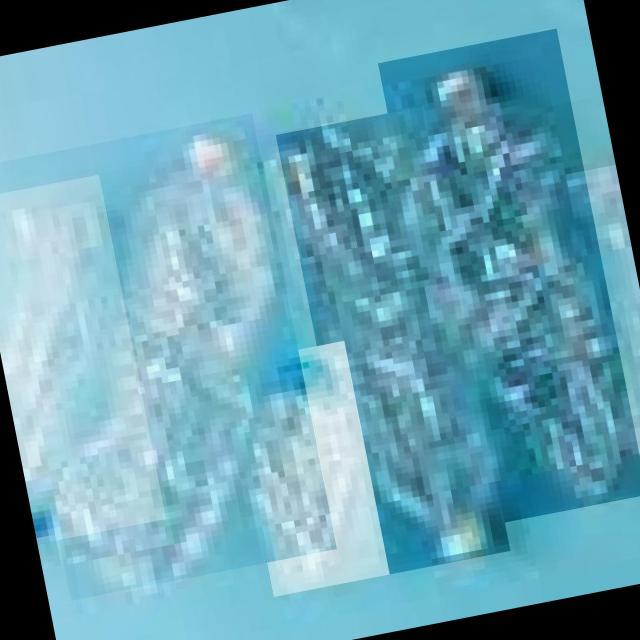defected: (0, 113, 337, 601), (378, 28, 640, 529), (276, 106, 510, 580), (0, 174, 166, 544), (230, 341, 390, 597)
